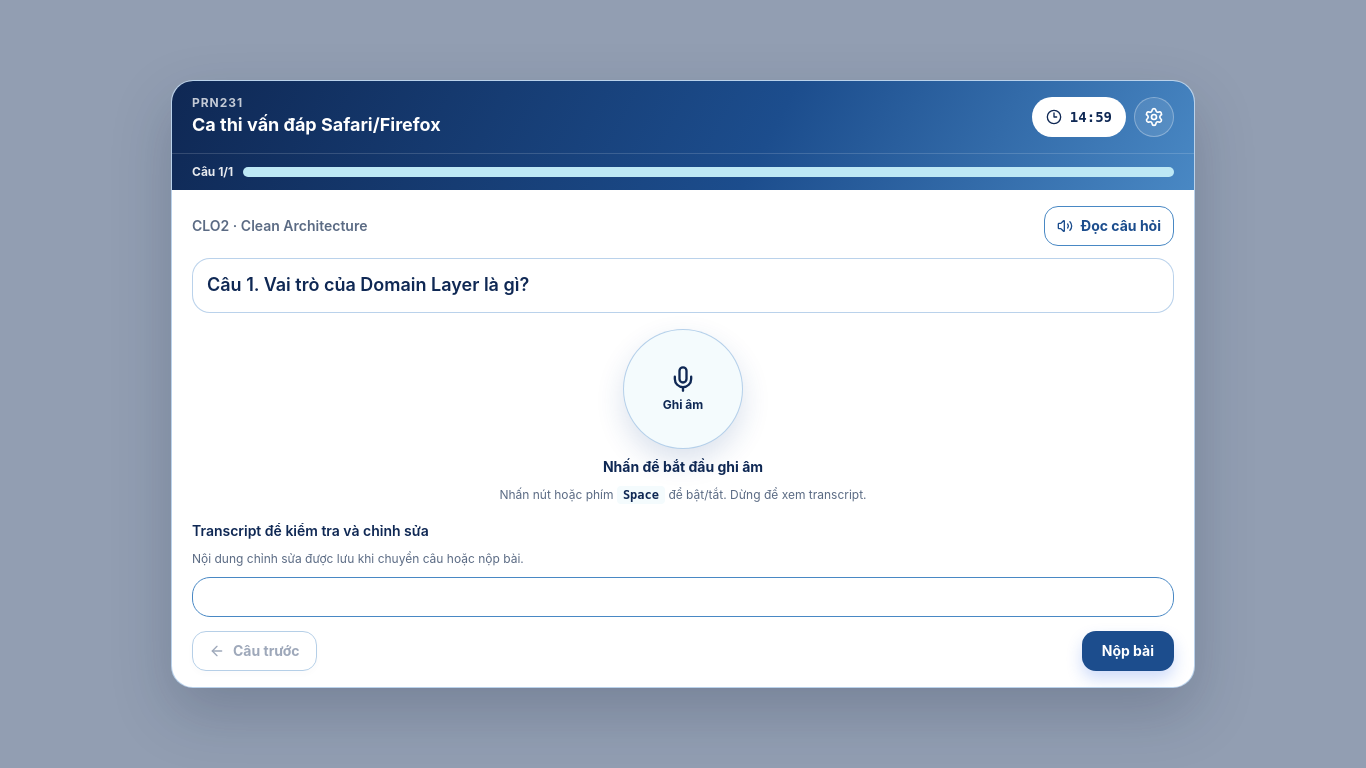
Test: InClassExamSessionPage M2 cross-device fallback & question images › records via useAudioRecorder + /speech/stt fallback when !speech.isSupported, preserves Safari blob type, and keeps textarea editable
The width and height of the screenshot is (1366, 768).
What coordinates should you click on to do the following:
click the button with aria-label "Bắt đầu ghi âm"
I would click on:
 (683, 388)
Its box is [623,328,743,448].
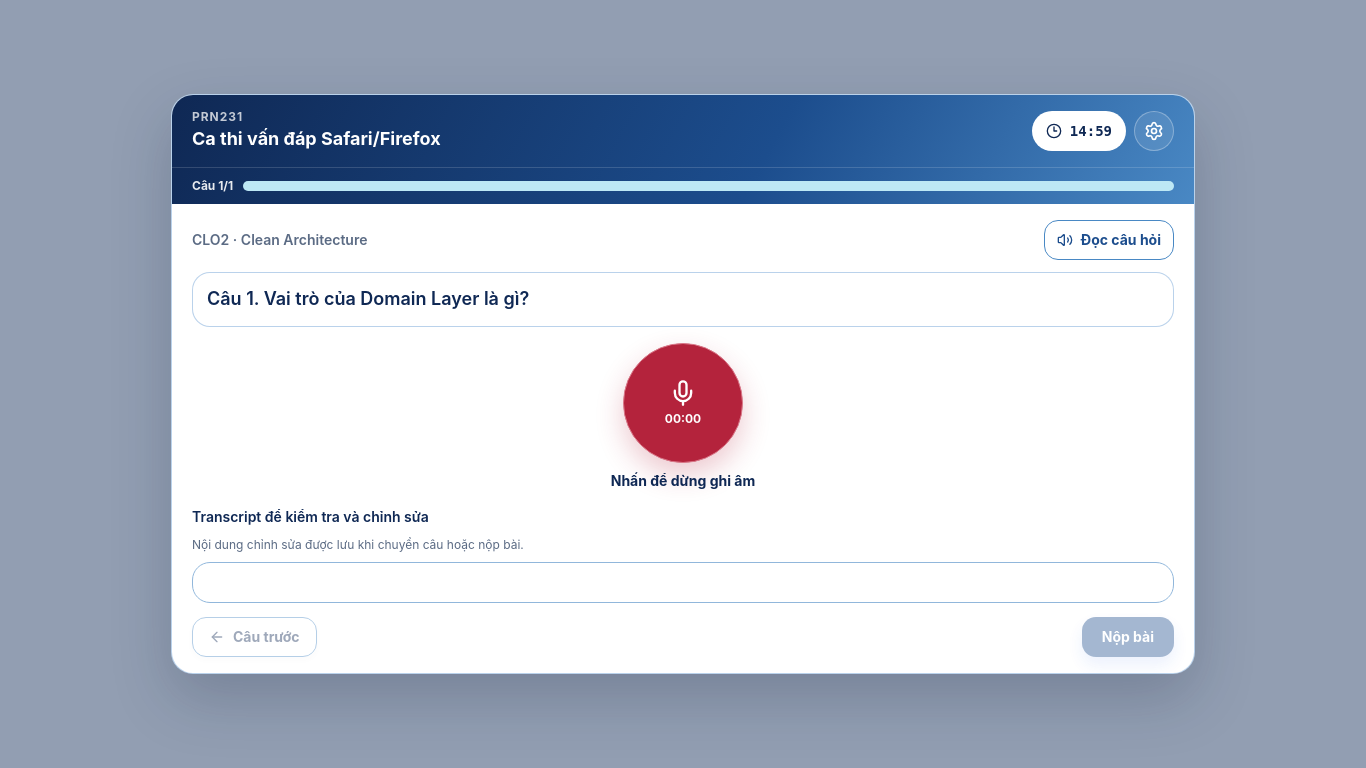
What coordinates should you click on to do the following:
click the button named "Dừng ghi âm"
I would click on:
 (683, 403)
Its box is [623,343,743,463].
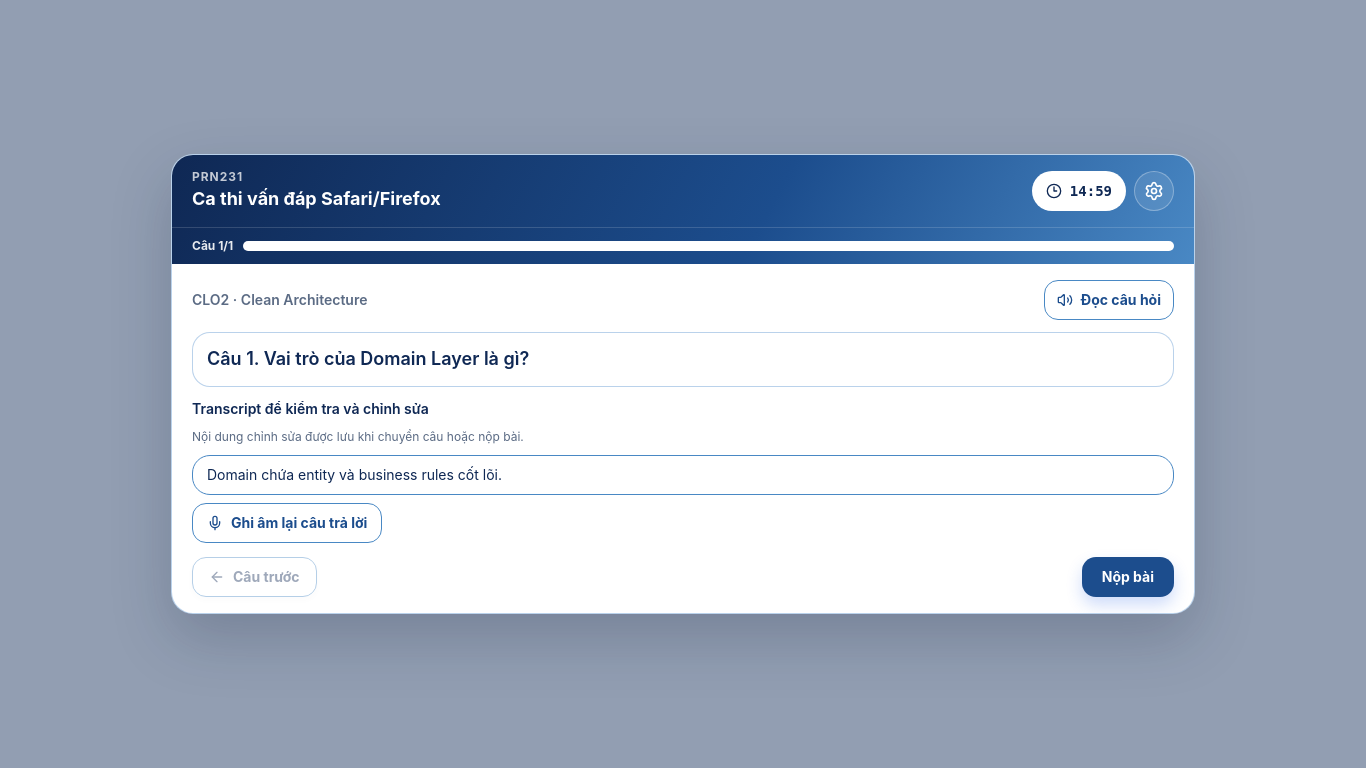
Now the text box labelled "Transcript để kiểm tra và chỉnh sửa" holds "Domain chứa entity và business rules cốt lõi.", box [192,455,1174,495]
Now the text box labelled "Transcript để kiểm tra và chỉnh sửa" is enabled, box [192,455,1174,495]
